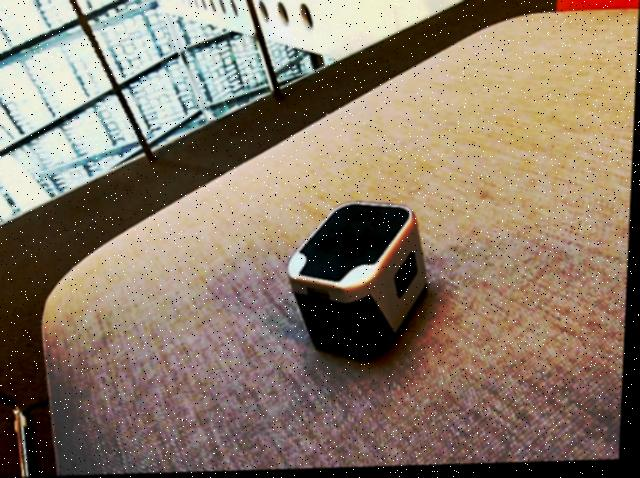adapter: (286, 200, 434, 365)
